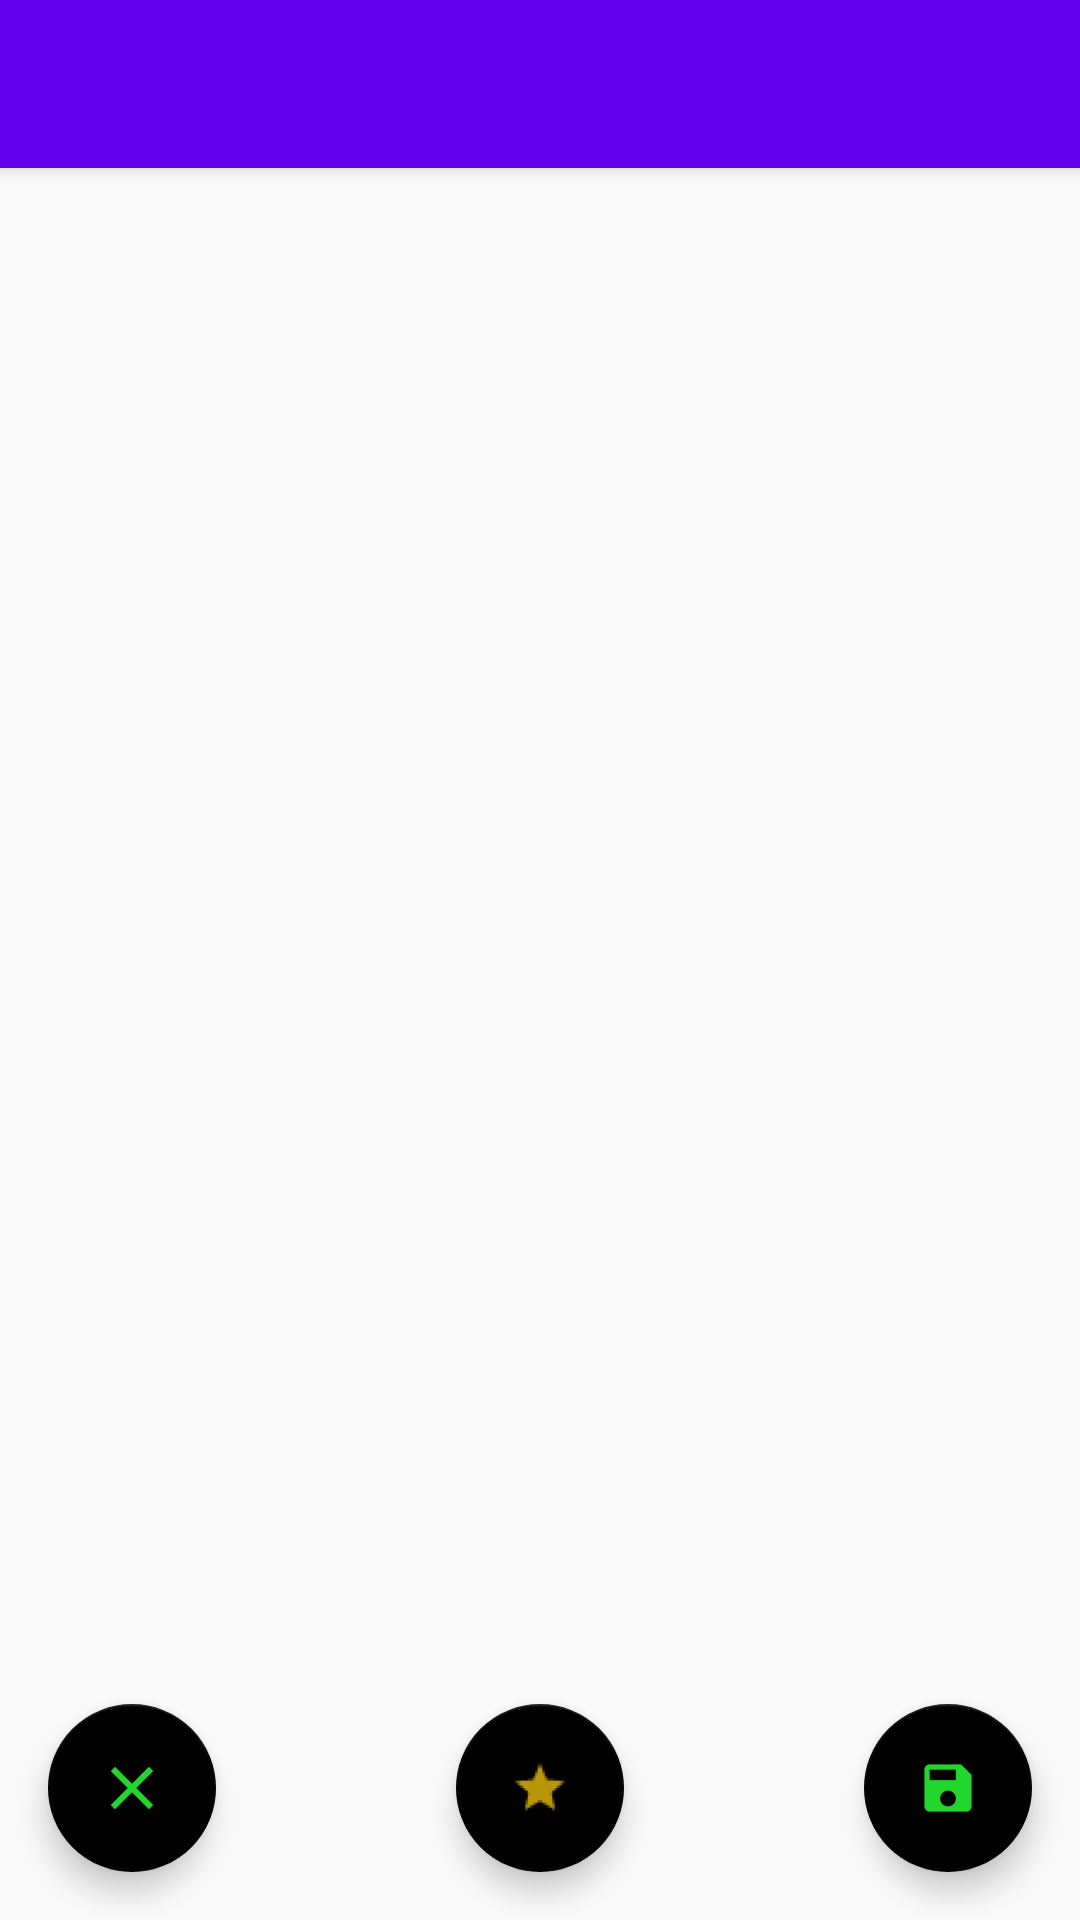

Icons on this 1080 × 1920 Android screen, each with the point to tap as (x=x, y=y):
cancelar: (x=132, y=1788)
favorito full: (x=540, y=1788)
guardar: (x=948, y=1788)
